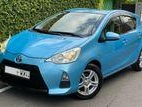car: (0, 8, 141, 100)
